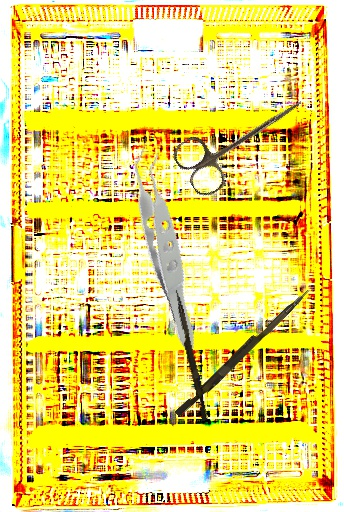Iris Scissors: (168, 74, 317, 202)
Pusher: (174, 283, 311, 421), (170, 289, 211, 422)
Tissue Forceps: (84, 135, 254, 352)
